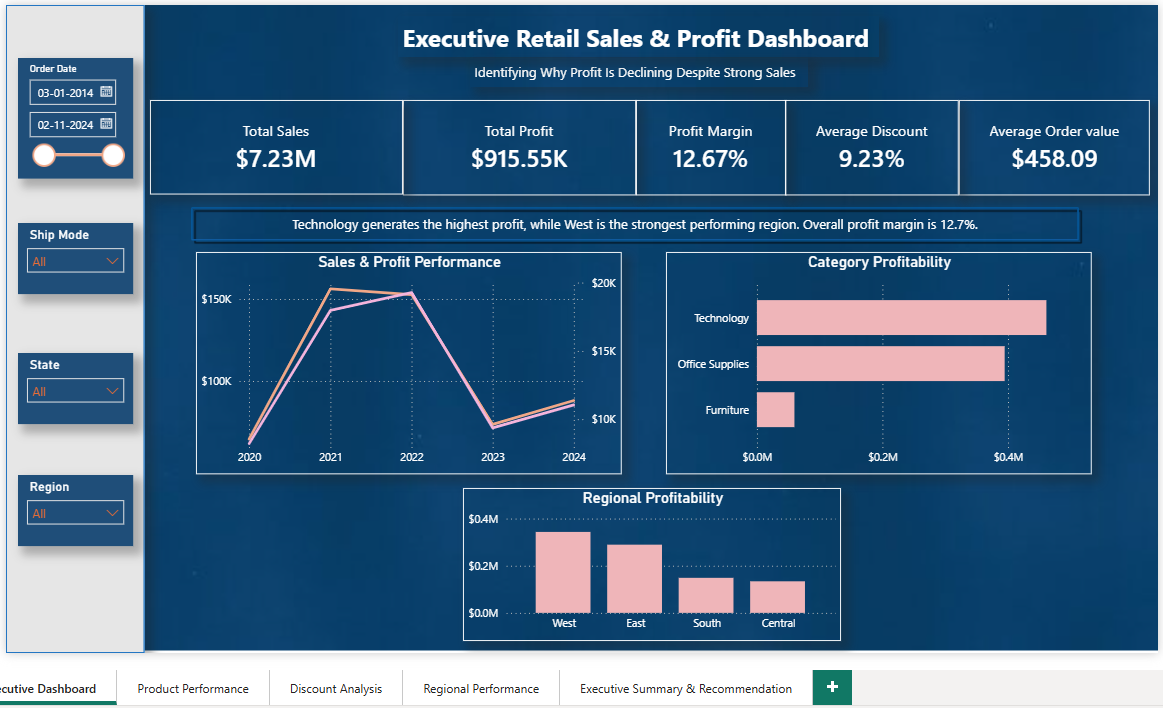

The dashboard page shown, as its layout file describes it:
{"tool":"powerbi","page":{"name":"Executive Dashboard","canvas":[1280,720],"ordinal":0},"visuals":[{"type":"textbox","box":[516.1,59.2,375.9,31.9],"z":0},{"type":"textbox","box":[436,12.7,534.2,46.5],"z":1000},{"type":"cardVisual","fields":{"Data":["Orders.Total Profit"]},"box":[441.3,105.6,258.7,105.6],"z":2000},{"type":"cardVisual","fields":{"Data":["Orders.Profit Margin"]},"box":[699.9,105.6,166.8,105.6],"z":3000},{"type":"cardVisual","fields":{"Data":["Orders.Average Order value"]},"box":[1058.9,105.6,212.2,105.6],"z":4000},{"type":"cardVisual","fields":{"Data":["Orders.Average Discount"]},"box":[865.7,105.6,193.2,105.6],"z":5000},{"type":"shape","box":[0,0,153.8,720],"z":6000},{"type":"lineChart","title":"Sales & Profit Performance","fields":{"Y":["Orders.Total Sales"],"Y2":["Orders.Total Profit"],"Category":["Orders.Order Date.Variation.Date Hierarchy.Year"]},"box":[210.8,274.6,472.8,247.2],"z":7000},{"type":"cardVisual","fields":{"Data":["Orders.Total Sales"]},"box":[160.5,105.6,280.8,104.5],"z":8000},{"type":"clusteredBarChart","title":"Category Profitability","fields":{"Category":["Orders.Category"],"Y":["Orders.Total Profit"]},"box":[733.7,274.6,472.8,247.2],"z":9000},{"type":"clusteredColumnChart","title":"Regional Profitability","fields":{"Y":["Orders.Total Profit"],"Category":["Orders.Region"]},"box":[508.1,536.6,420.4,169.7],"z":10000},{"type":"slicer","fields":{"Values":["Orders.Order Date"]},"box":[13.7,59.2,127.6,134.4],"z":11000},{"type":"slicer","fields":{"Values":["Orders.Ship Mode"]},"box":[13.7,242.7,127.6,78.6],"z":12000},{"type":"slicer","fields":{"Values":["Orders.State"]},"box":[13.7,386.2,127.6,78.6],"z":13000},{"type":"slicer","fields":{"Values":["Orders.Region"]},"box":[13.7,521.8,127.6,78.6],"z":14000},{"type":"shape","box":[201.6,219.6,995.5,46.5],"z":15000}]}

Visuals, with their boxes on the page's 1280x720 design canvas (x1, y1, x2, y2). These are canvas units, not pixel positions in the 1163x708 screenshot, which may show the page scaled, cropped or inside an application window:
textbox: bbox=[516, 59, 892, 91]
textbox: bbox=[436, 13, 970, 59]
cardVisual - Orders.Total Profit: bbox=[441, 106, 700, 211]
cardVisual - Orders.Profit Margin: bbox=[700, 106, 867, 211]
cardVisual - Orders.Average Order value: bbox=[1059, 106, 1271, 211]
cardVisual - Orders.Average Discount: bbox=[866, 106, 1059, 211]
shape: bbox=[0, 0, 154, 720]
"Sales & Profit Performance" lineChart: bbox=[211, 275, 684, 522]
cardVisual - Orders.Total Sales: bbox=[160, 106, 441, 210]
"Category Profitability" clusteredBarChart: bbox=[734, 275, 1206, 522]
"Regional Profitability" clusteredColumnChart: bbox=[508, 537, 928, 706]
slicer - Orders.Order Date: bbox=[14, 59, 141, 194]
slicer - Orders.Ship Mode: bbox=[14, 243, 141, 321]
slicer - Orders.State: bbox=[14, 386, 141, 465]
slicer - Orders.Region: bbox=[14, 522, 141, 600]
shape: bbox=[202, 220, 1197, 266]
